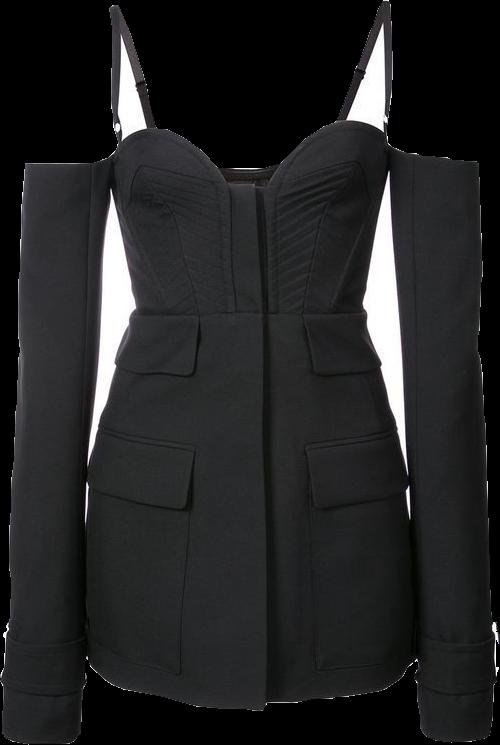Bodice: (107, 1, 392, 320)
Hemline: (86, 658, 416, 710)
Neckline: (113, 0, 386, 187)
Skirt: (86, 309, 414, 710)
Sleeve: (0, 158, 110, 743), (388, 148, 495, 742)
Sleeveline: (21, 158, 115, 186), (382, 147, 479, 174)
Waistline: (132, 306, 365, 325)
